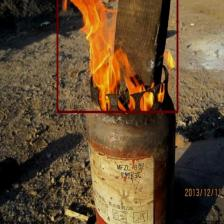fire: (56, 0, 178, 113)
